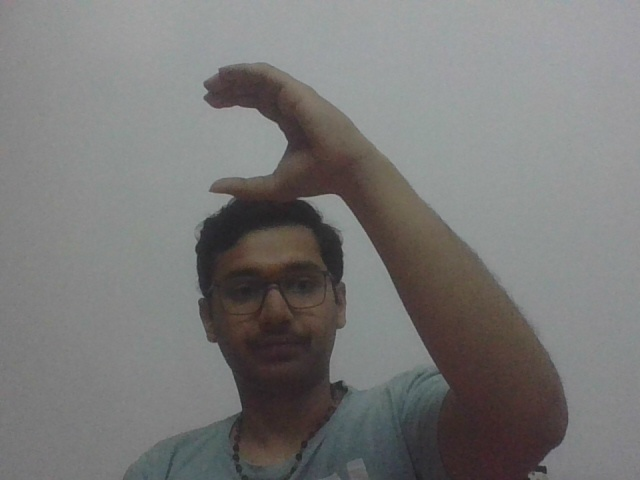C: (200, 56, 376, 202)
